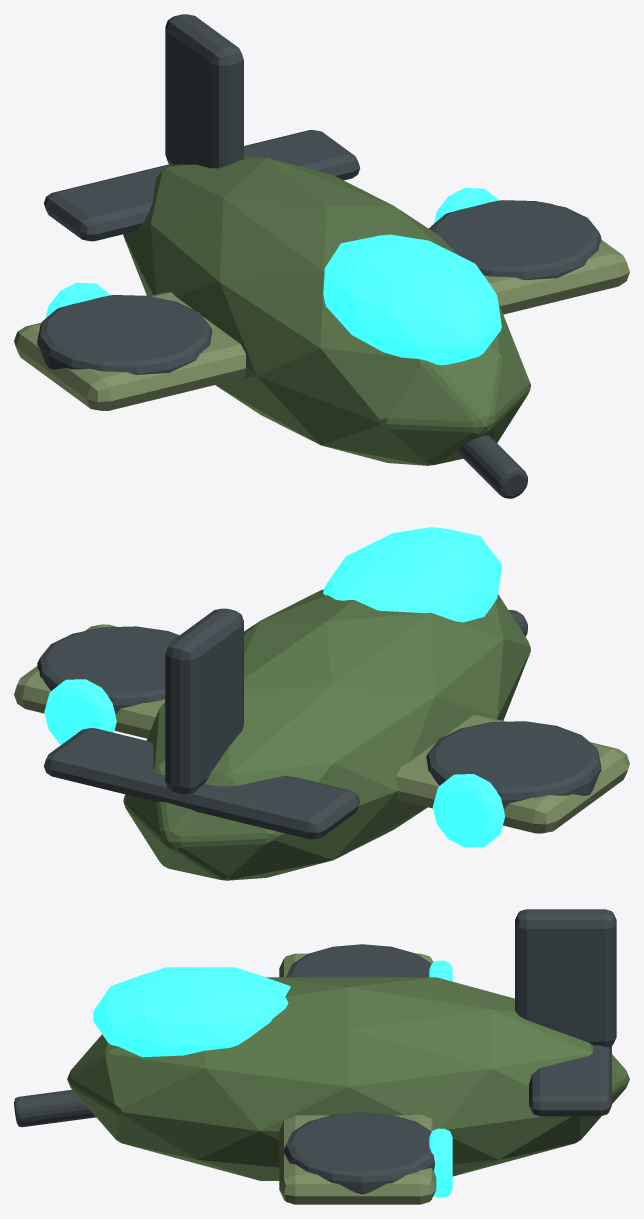
File: human_gunship.glb
3 views of the same model, one above another, from view 1: azimuth 30°, elevation 25°; view 2: azimuth 150°, elevation 25°; view 3: azimuth 270°, elevation 25° (orthographic). The views are drawn at different scales.
Visible parts, largest first — view 1: Fuselage, Canopy, MainWing, LiftFan, TailFin, LiftFan.001, TailWing, NoseGun, EngineGlow.001, EngineGlow; view 2: Fuselage, TailWing, Canopy, TailFin, LiftFan, MainWing, LiftFan.001, EngineGlow, EngineGlow.001; view 3: Fuselage, Canopy, TailFin, LiftFan.001, MainWing, TailWing, LiftFan, NoseGun, EngineGlow.001.
Part boxes in pixels (x1=…): Fuselage: x1=123, y1=156, x2=530, y2=465; Canopy: x1=323, y1=234, x2=501, y2=365; MainWing: x1=14, y1=202, x2=629, y2=410; LiftFan: x1=37, y1=295, x2=212, y2=374; TailFin: x1=165, y1=14, x2=243, y2=168; LiftFan.001: x1=429, y1=200, x2=601, y2=280; TailWing: x1=44, y1=130, x2=360, y2=241; NoseGun: x1=458, y1=435, x2=527, y2=498; EngineGlow.001: x1=434, y1=188, x2=498, y2=223; EngineGlow: x1=45, y1=282, x2=110, y2=317; Fuselage: x1=123, y1=589, x2=530, y2=880; TailWing: x1=44, y1=728, x2=360, y2=839; Canopy: x1=323, y1=527, x2=501, y2=622; TailFin: x1=165, y1=608, x2=243, y2=794; LiftFan: x1=426, y1=721, x2=601, y2=808; MainWing: x1=14, y1=624, x2=629, y2=833; LiftFan.001: x1=37, y1=626, x2=179, y2=714; EngineGlow: x1=432, y1=774, x2=504, y2=847; EngineGlow.001: x1=44, y1=679, x2=116, y2=744; Fuselage: x1=67, y1=977, x2=629, y2=1180; Canopy: x1=93, y1=967, x2=290, y2=1057; TailFin: x1=515, y1=909, x2=616, y2=1047; LiftFan.001: x1=283, y1=1112, x2=434, y2=1194; MainWing: x1=279, y1=953, x2=436, y2=1204; TailWing: x1=529, y1=1045, x2=611, y2=1116; LiftFan: x1=286, y1=944, x2=431, y2=977; NoseGun: x1=14, y1=1089, x2=95, y2=1127; EngineGlow.001: x1=429, y1=1128, x2=452, y2=1197.
Bounding box in the file's own units: 1.2 × 0.62 × 1.33.
